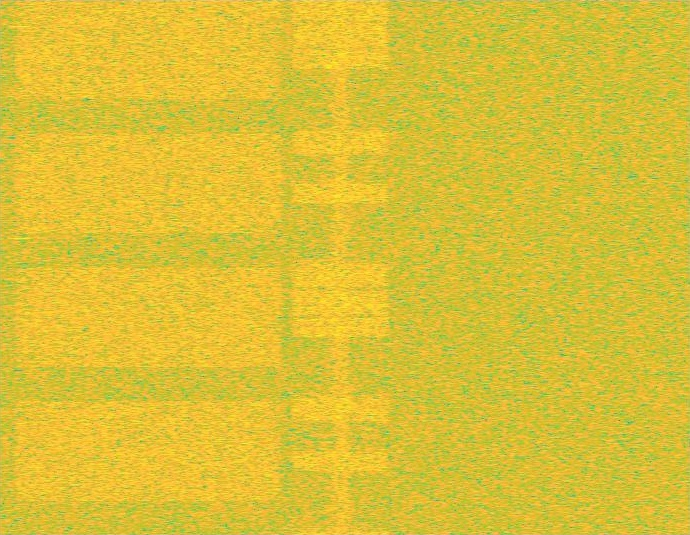5G: (11, 0, 287, 534)
DSSS: (329, 0, 352, 534)
LTE: (289, 0, 392, 534)
Radar: (14, 0, 28, 534)
